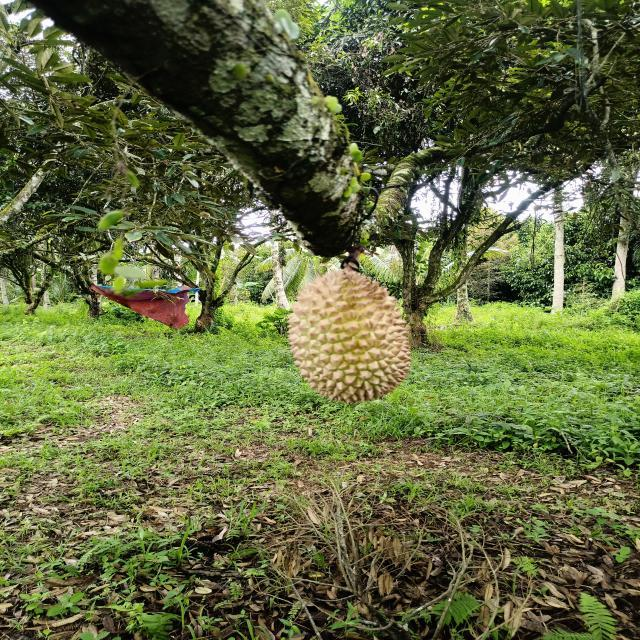mature: (285, 269, 411, 403)
